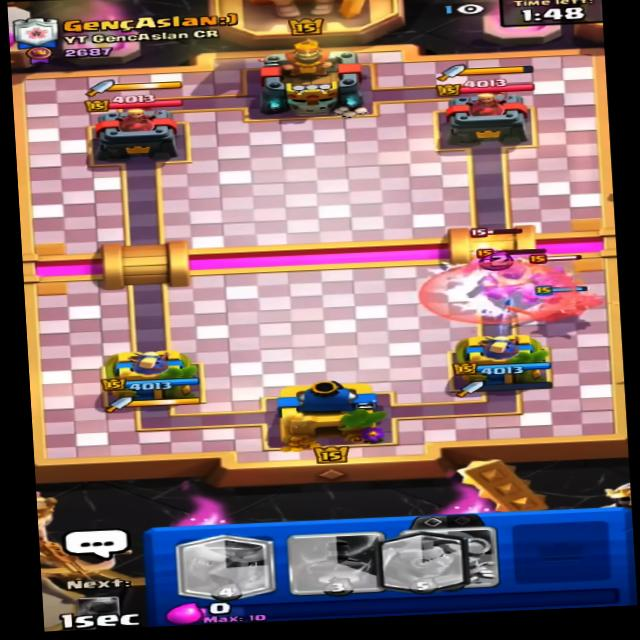mega-knight: (468, 248, 576, 309)
